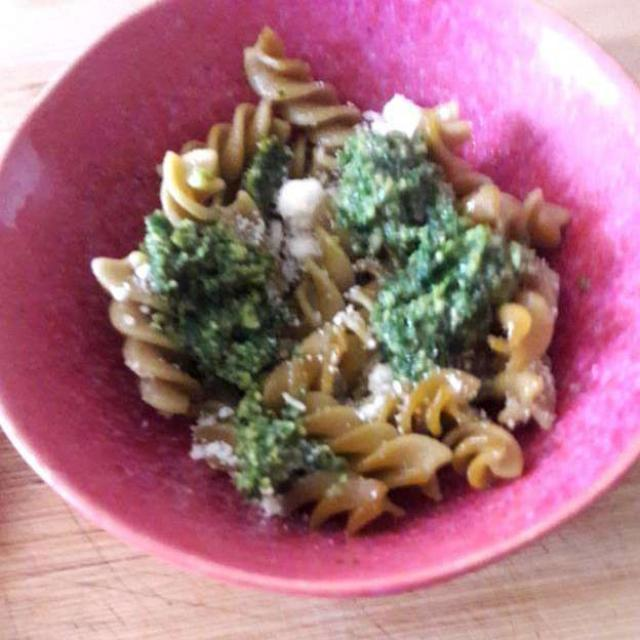cheese: (233, 99, 418, 443)
pasta: (101, 38, 571, 525)
sauce: (148, 120, 542, 525)
